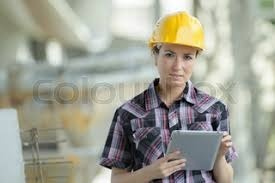helmet: (150, 12, 208, 51)
person with partial safety: (112, 11, 235, 182)
